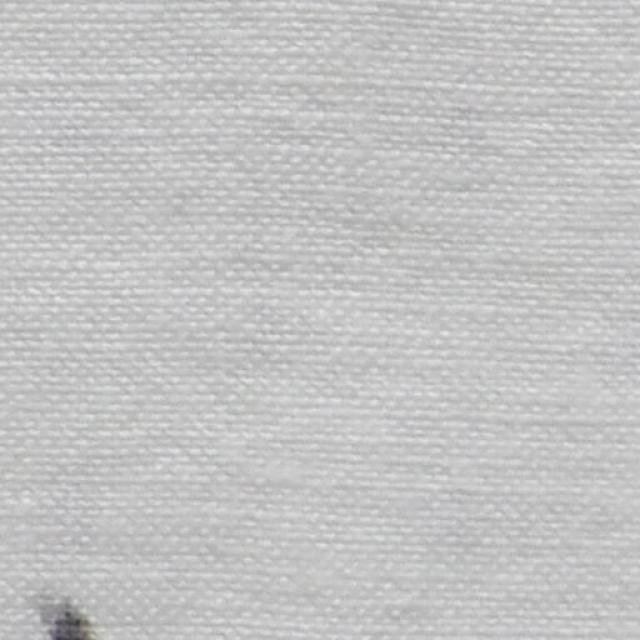Stain: (39, 601, 99, 640)
